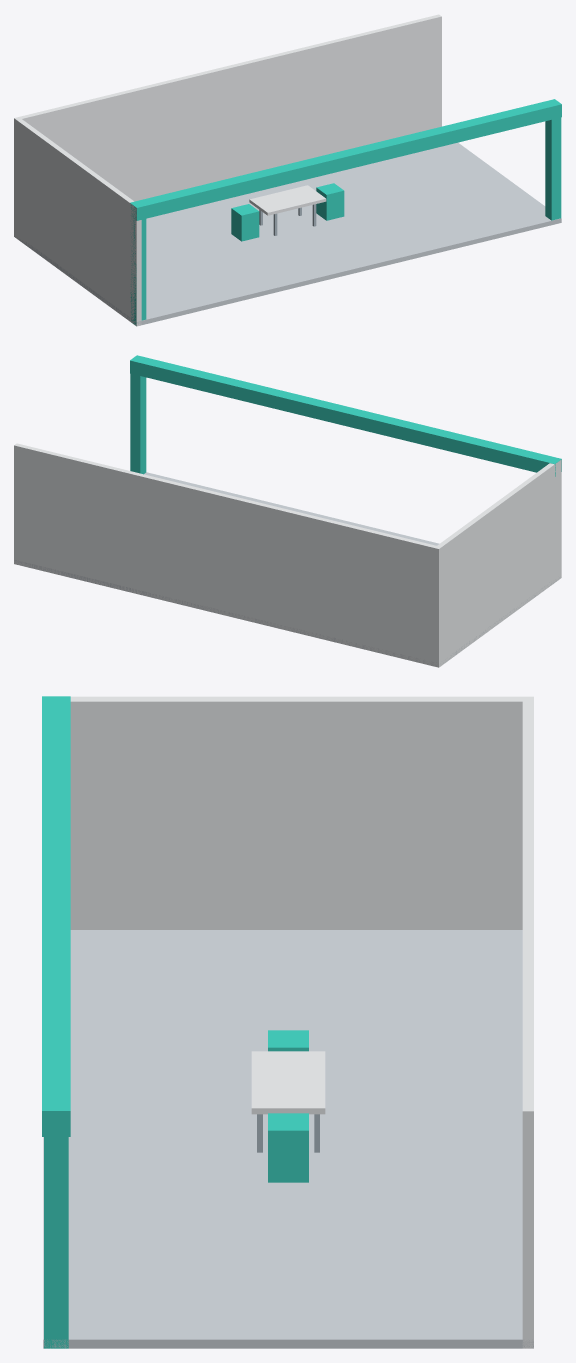
The picture shows the model from 3 angles, top to bottom: view 1: azimuth 30°, elevation 25°; view 2: azimuth 150°, elevation 25°; view 3: azimuth 270°, elevation 25°; orthographic projection. The views are drawn at different scales.
Parts seen in each view (by area): view 1: Exhibition Booth Concept; view 2: Exhibition Booth Concept; view 3: Exhibition Booth Concept.
Boxes of the visible parts, box(x1,y1,x2,y2) form: Exhibition Booth Concept: box(14, 14, 561, 326); Exhibition Booth Concept: box(14, 355, 561, 667); Exhibition Booth Concept: box(42, 696, 533, 1348).
Size of the model in its own units: 12 by 3.2 by 6.02.
